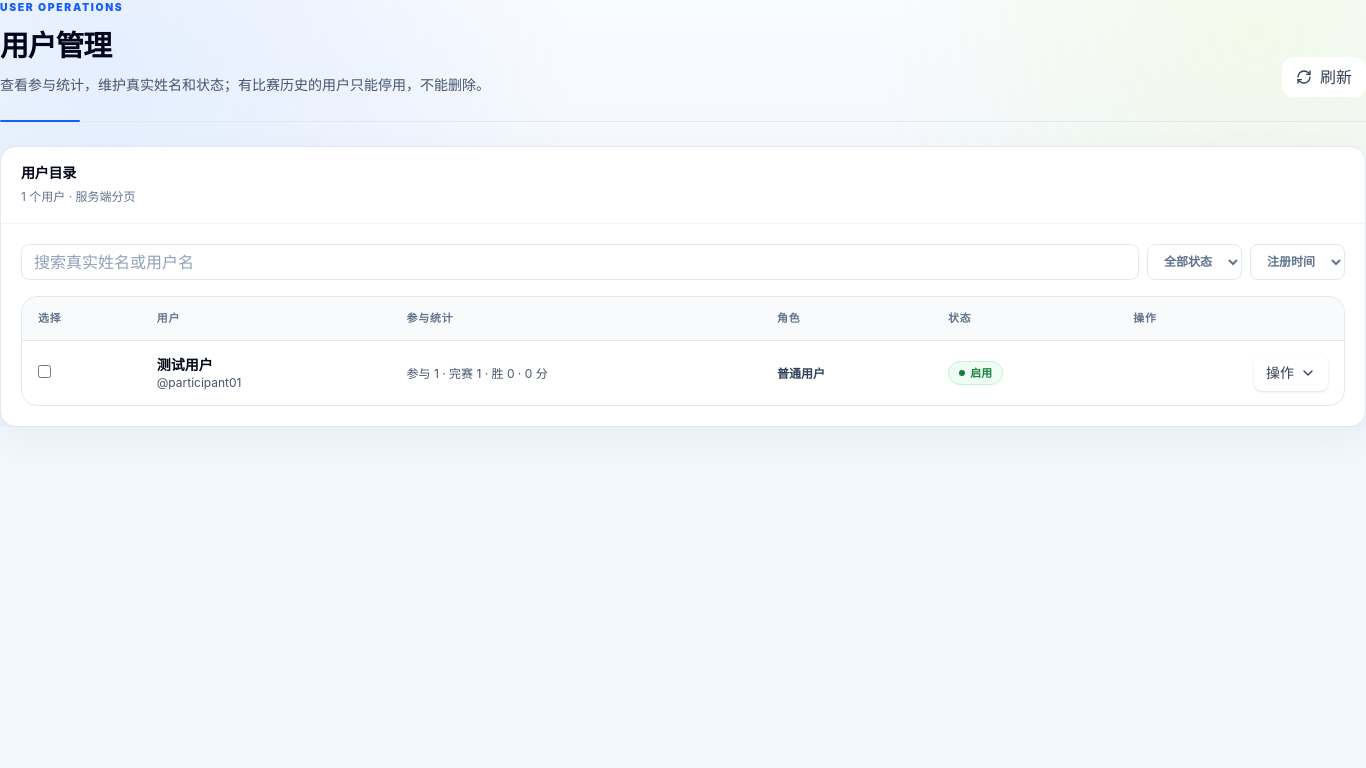
Test case: admin user password management › sets an explicit password and never requests a temporary password
The width and height of the screenshot is (1366, 768).
Expected: the text "测试用户" is shown, [157,356,213,373]
Press the mouse on the button with aria-label "更多操作" at (1291, 373), box [1254,355,1328,391]
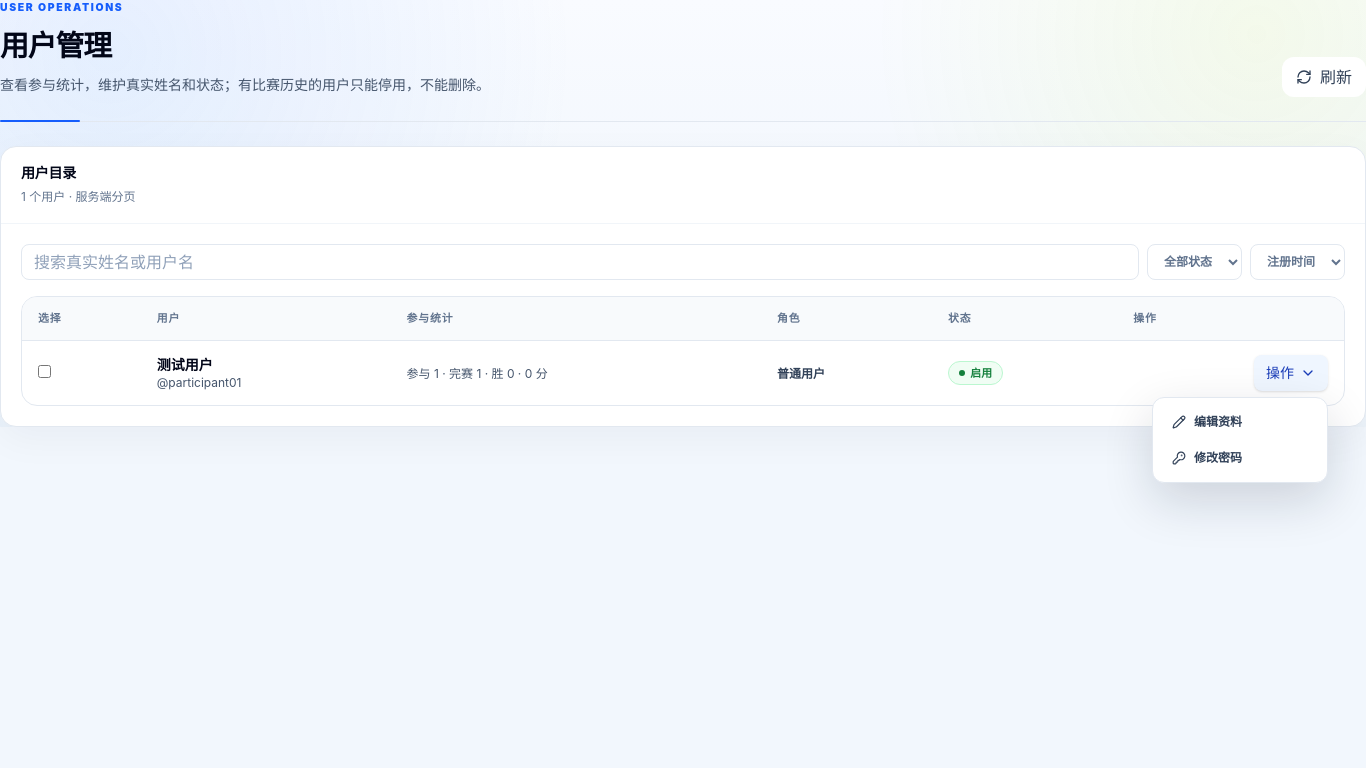
Click the menu item "修改密码" at (1207, 458), box [1172,450,1242,465]
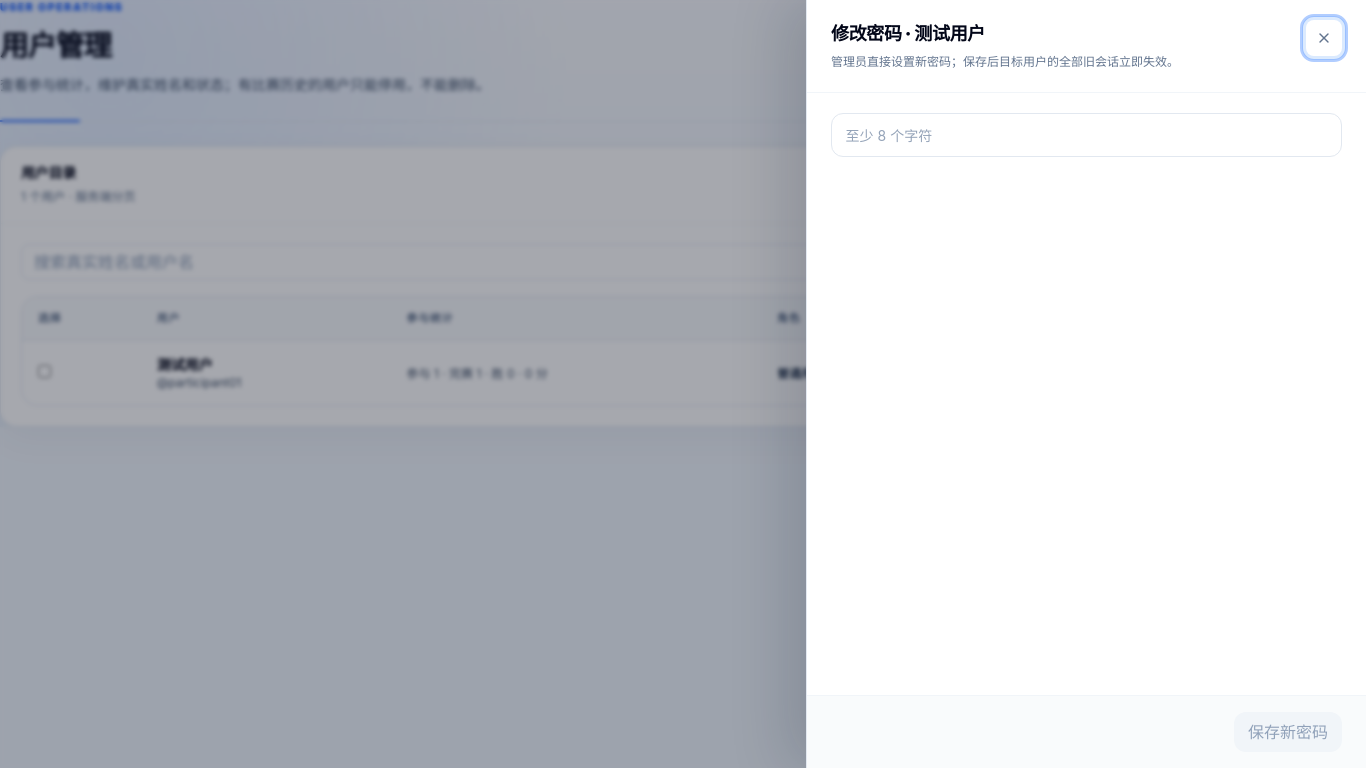
Type "NewPassword123" into the password field named "新密码" at (1086, 135), box [831,113,1342,157]
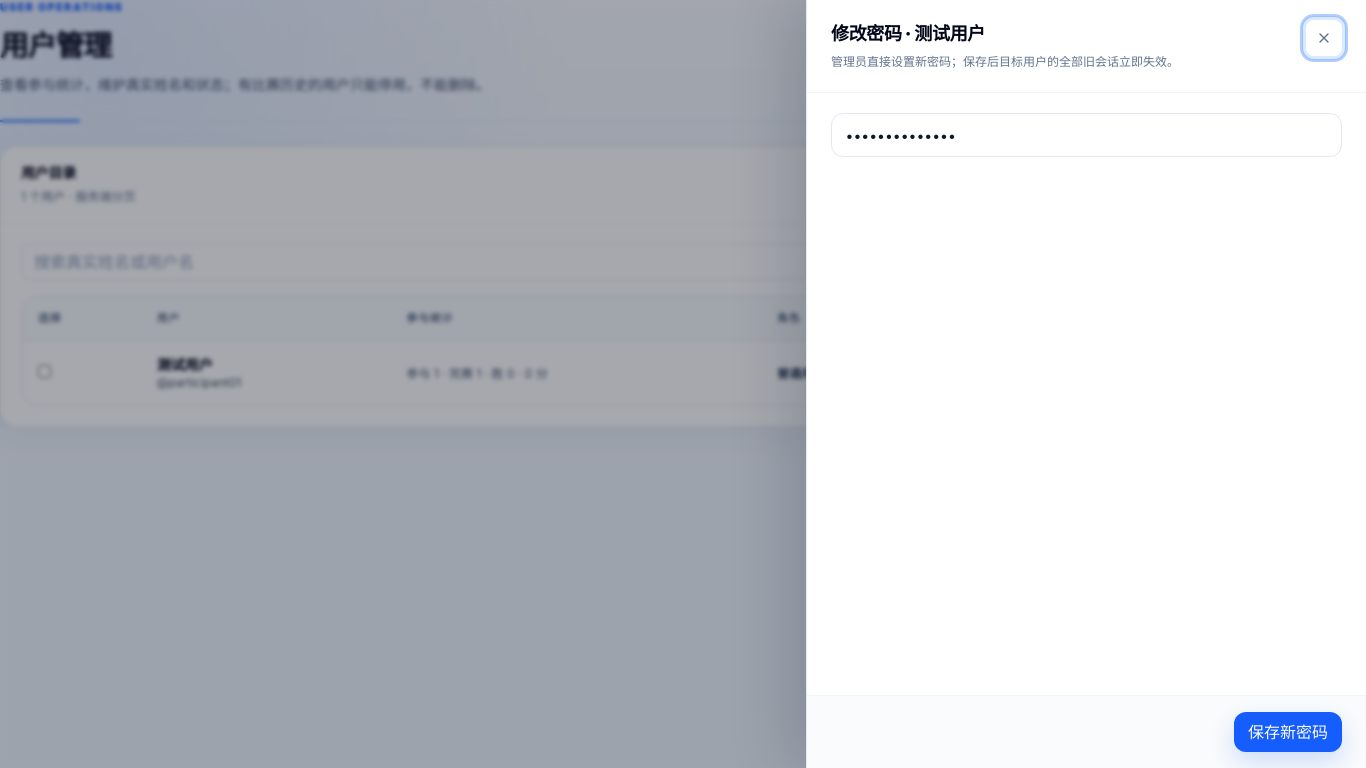
Click the button "保存新密码" at (1288, 732), box [1234,712,1342,752]
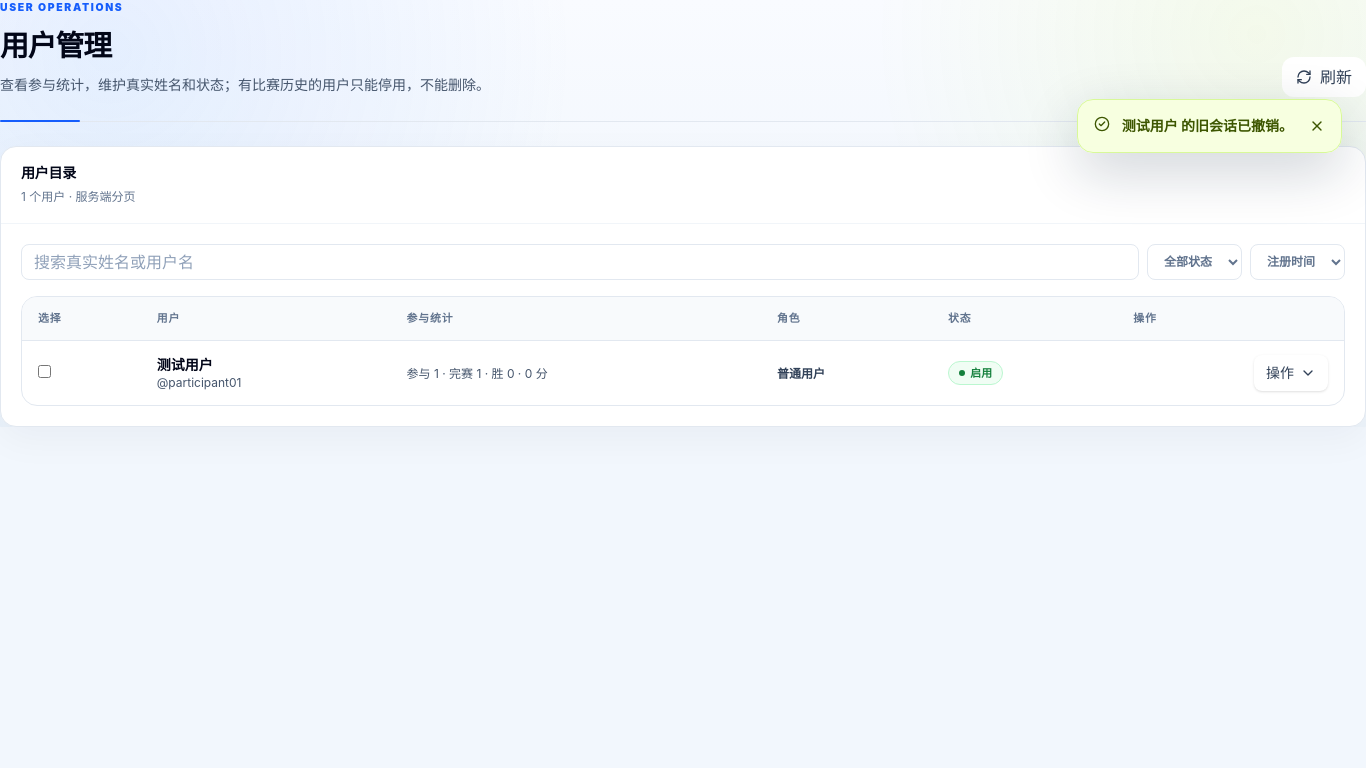
Now the message shows "旧会话已撤销", box [1122,117,1293,134]
